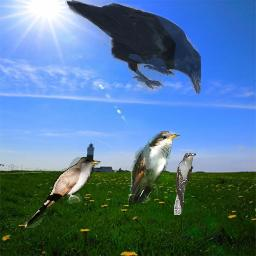Crow: (65, 0, 201, 94)
Cuckoo: (24, 157, 101, 228), (128, 131, 180, 203), (173, 152, 196, 215)
